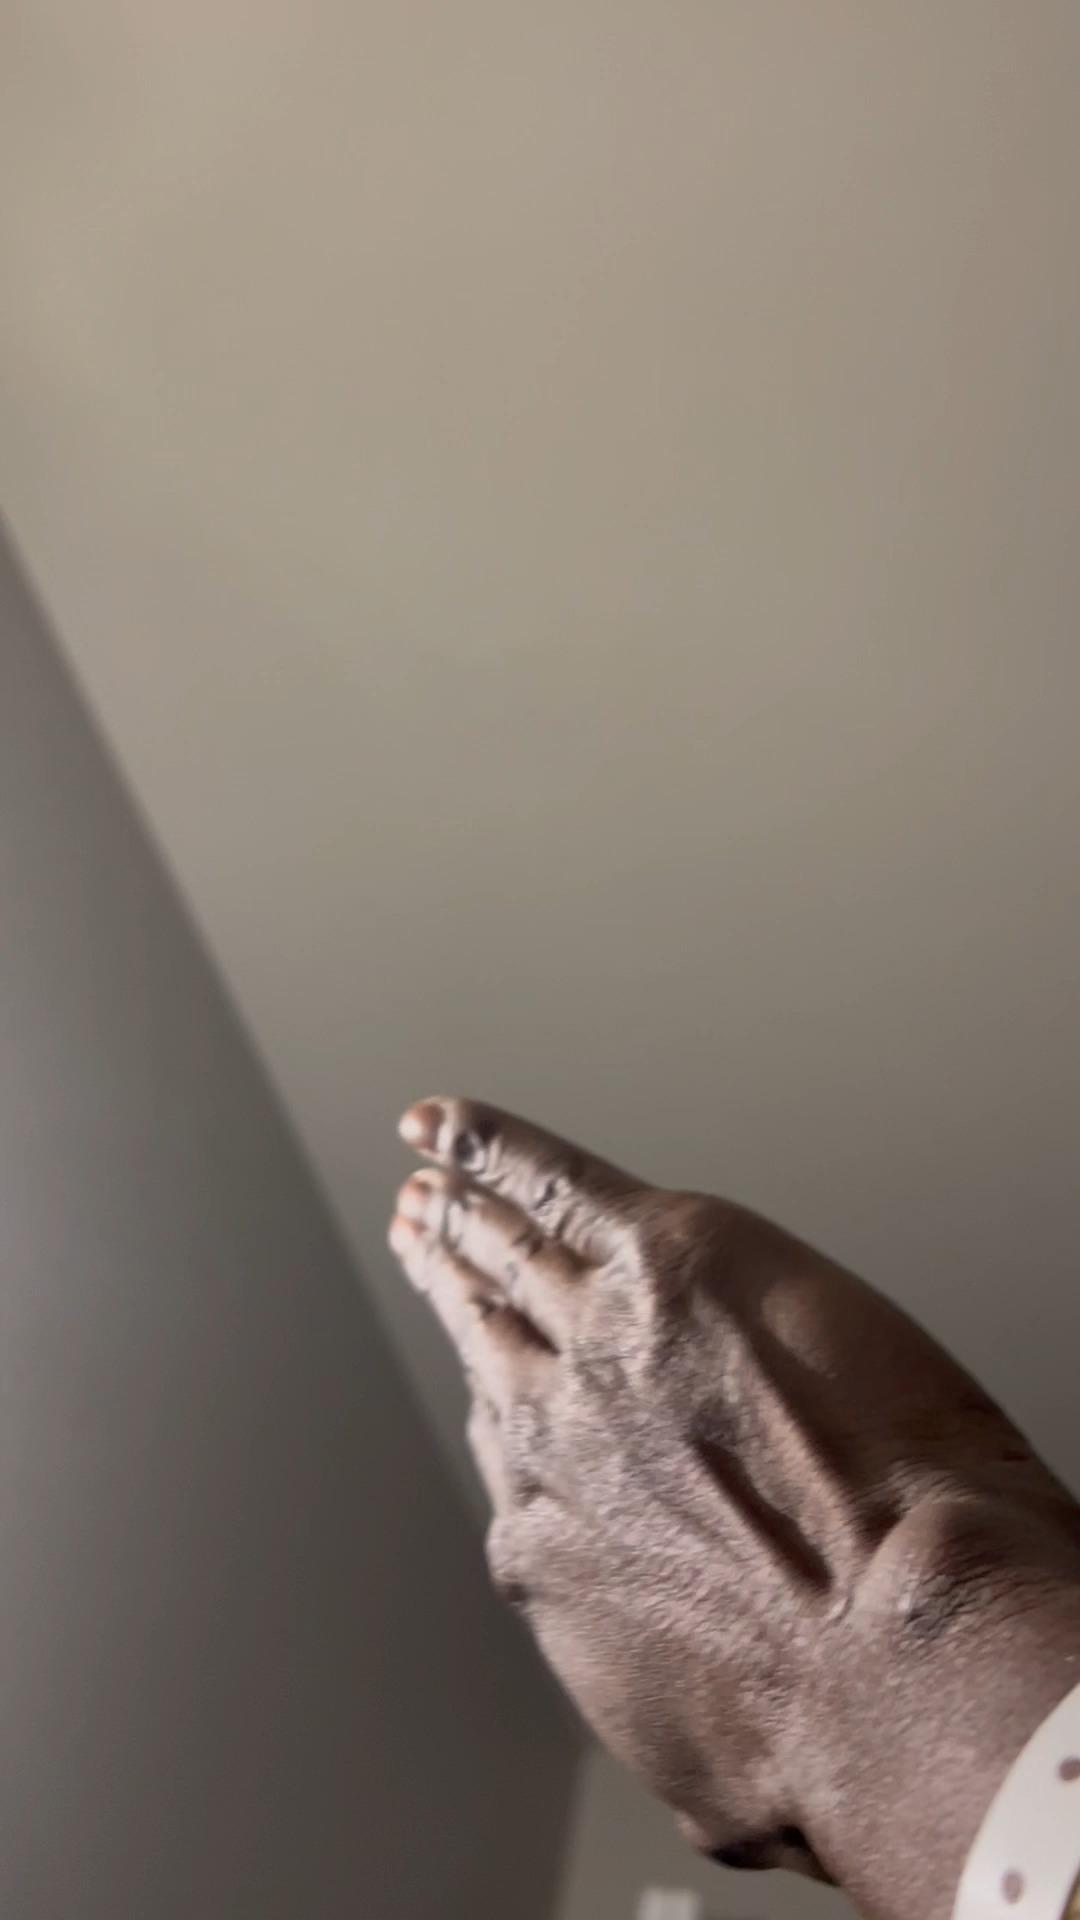Paper: (386, 1085, 1046, 1866)
